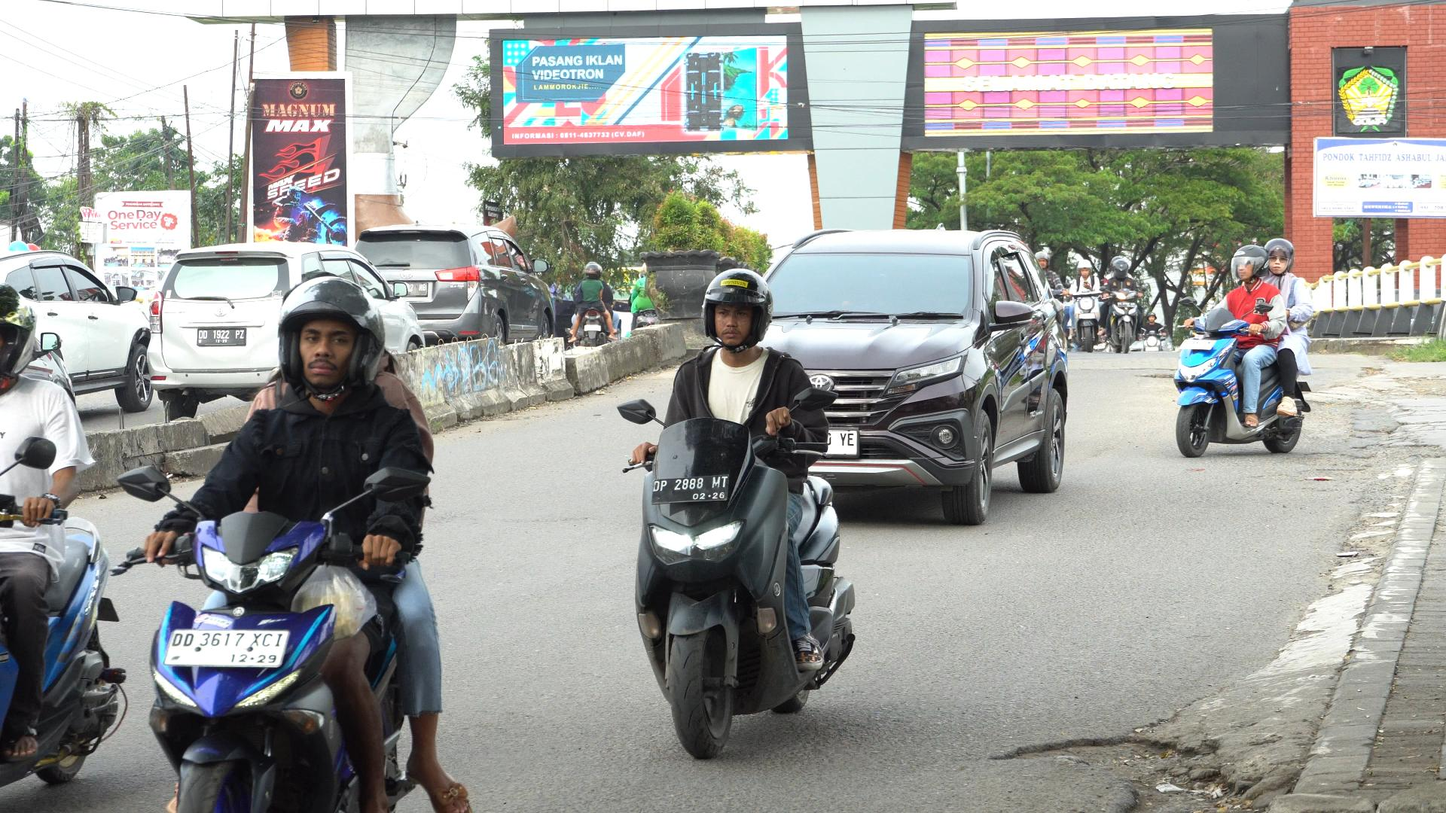number-plate: (164, 622, 291, 674), (645, 474, 729, 504)
